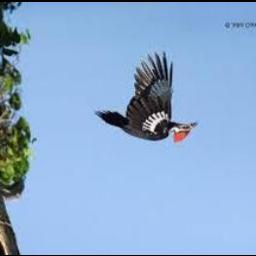Woodpecker: (94, 51, 198, 144)
